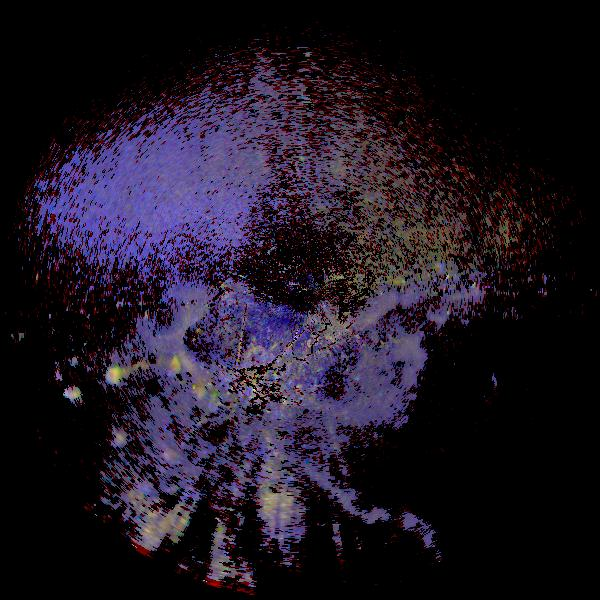roost: (163, 357, 181, 375), (107, 368, 122, 383), (191, 386, 206, 401), (111, 432, 126, 447), (162, 447, 177, 462), (67, 387, 79, 399)
